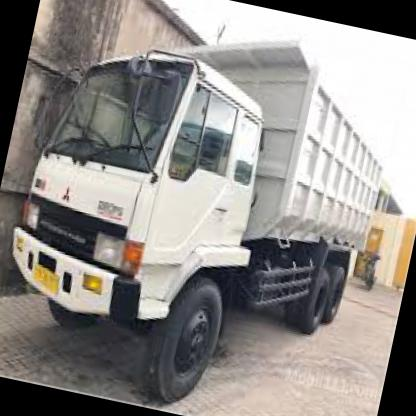truck: (1, 25, 285, 416)
